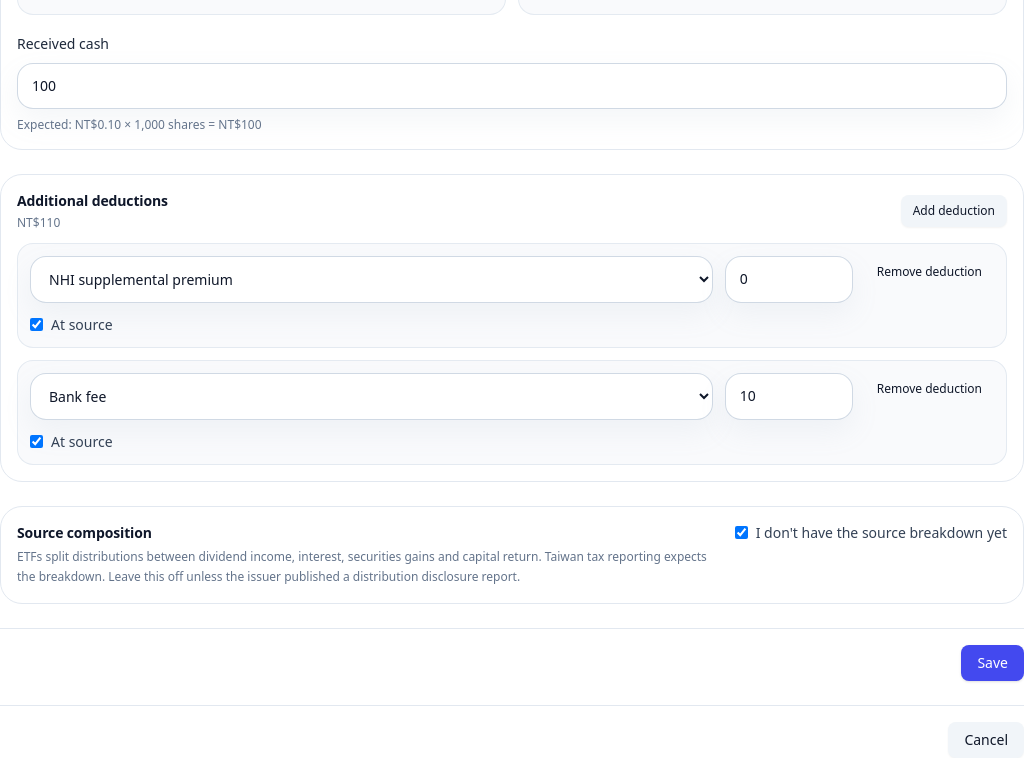
it: DividendPostingForm › blocks submit when source lines do not reconcile within tolerance
(page scrolled)
Click the checkbox with test id "dividend-source-unknown-toggle": click(741, 532) [735,526,748,539]
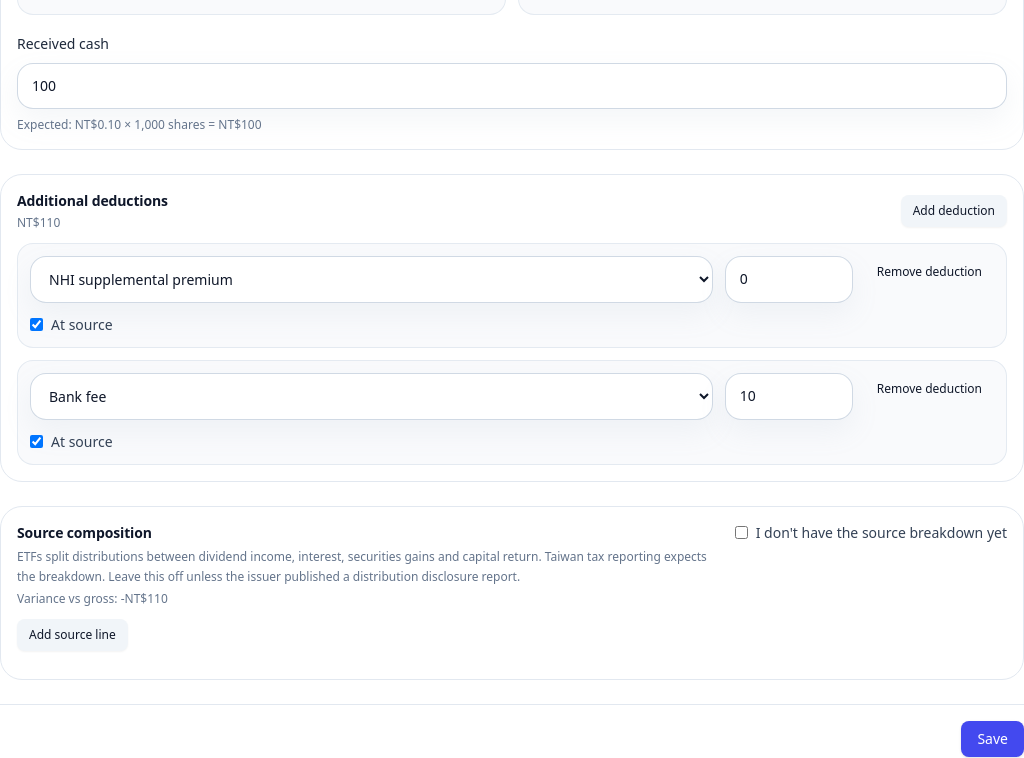
Click the button with test id "dividend-add-source-line": click(72, 634) [17,618,128,650]
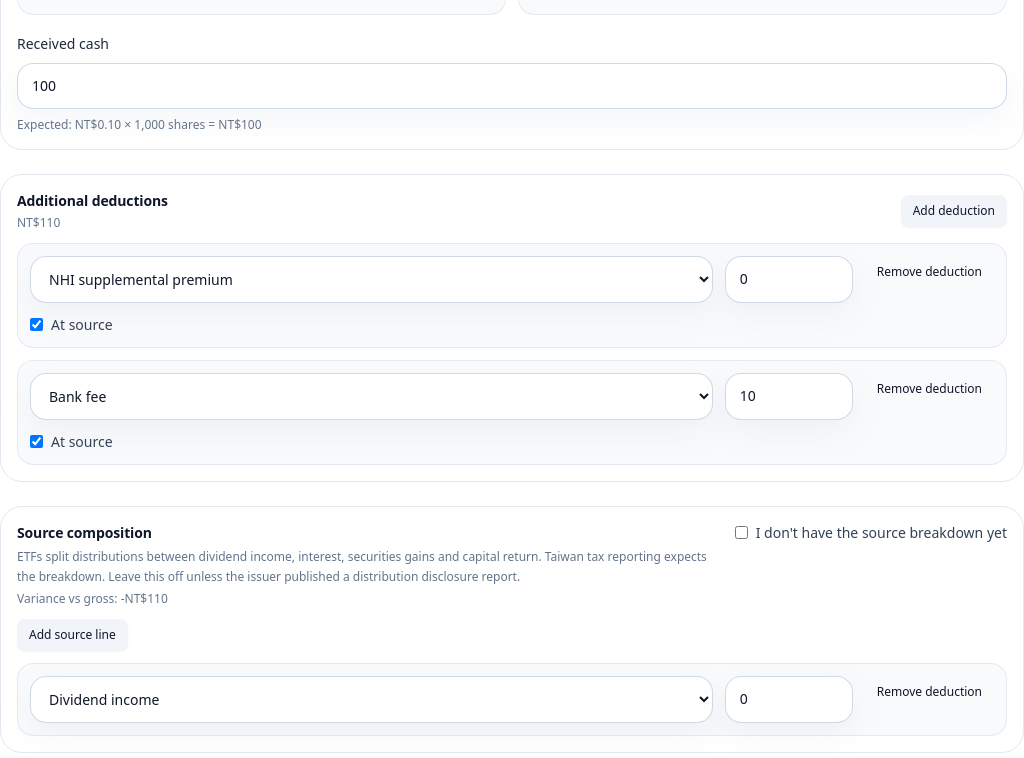
Replace the text in the number field with test id "dividend-source-amount-0" with "80": (789, 699) [725,676,853,722]
(page scrolled)
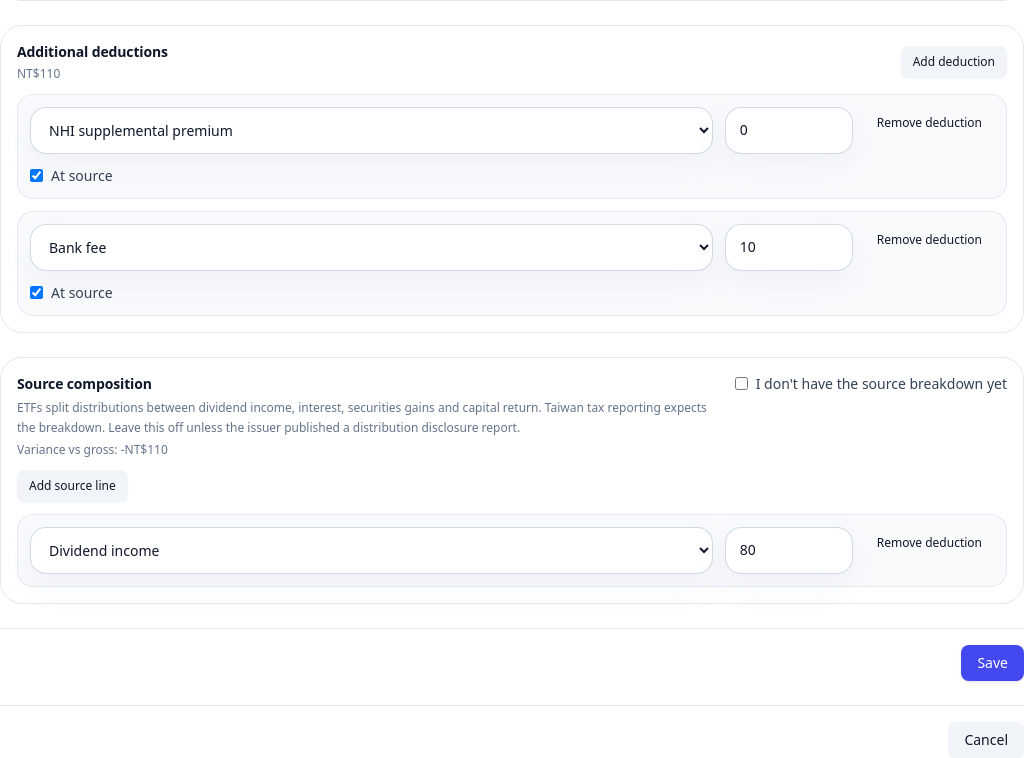
Click the button with test id "dividend-save": click(993, 662) [961,644,1023,680]
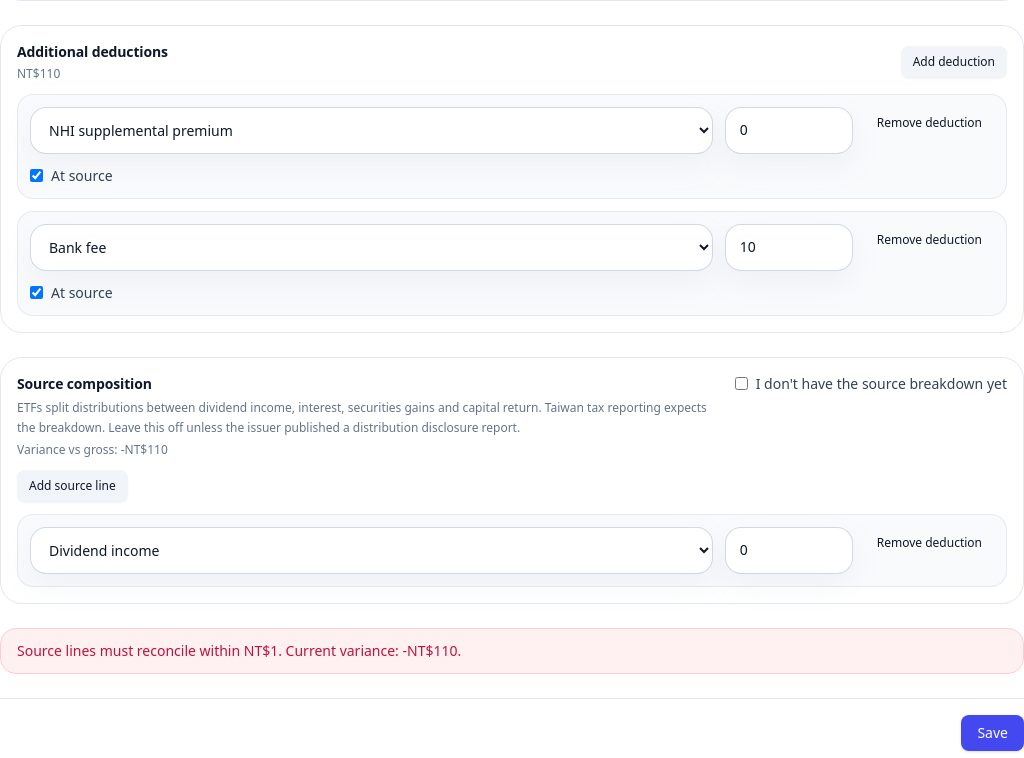
Now the text with test id "dividend-form-error" shows "Source lines must reconcile within NT$1", box [17,640,461,660]
